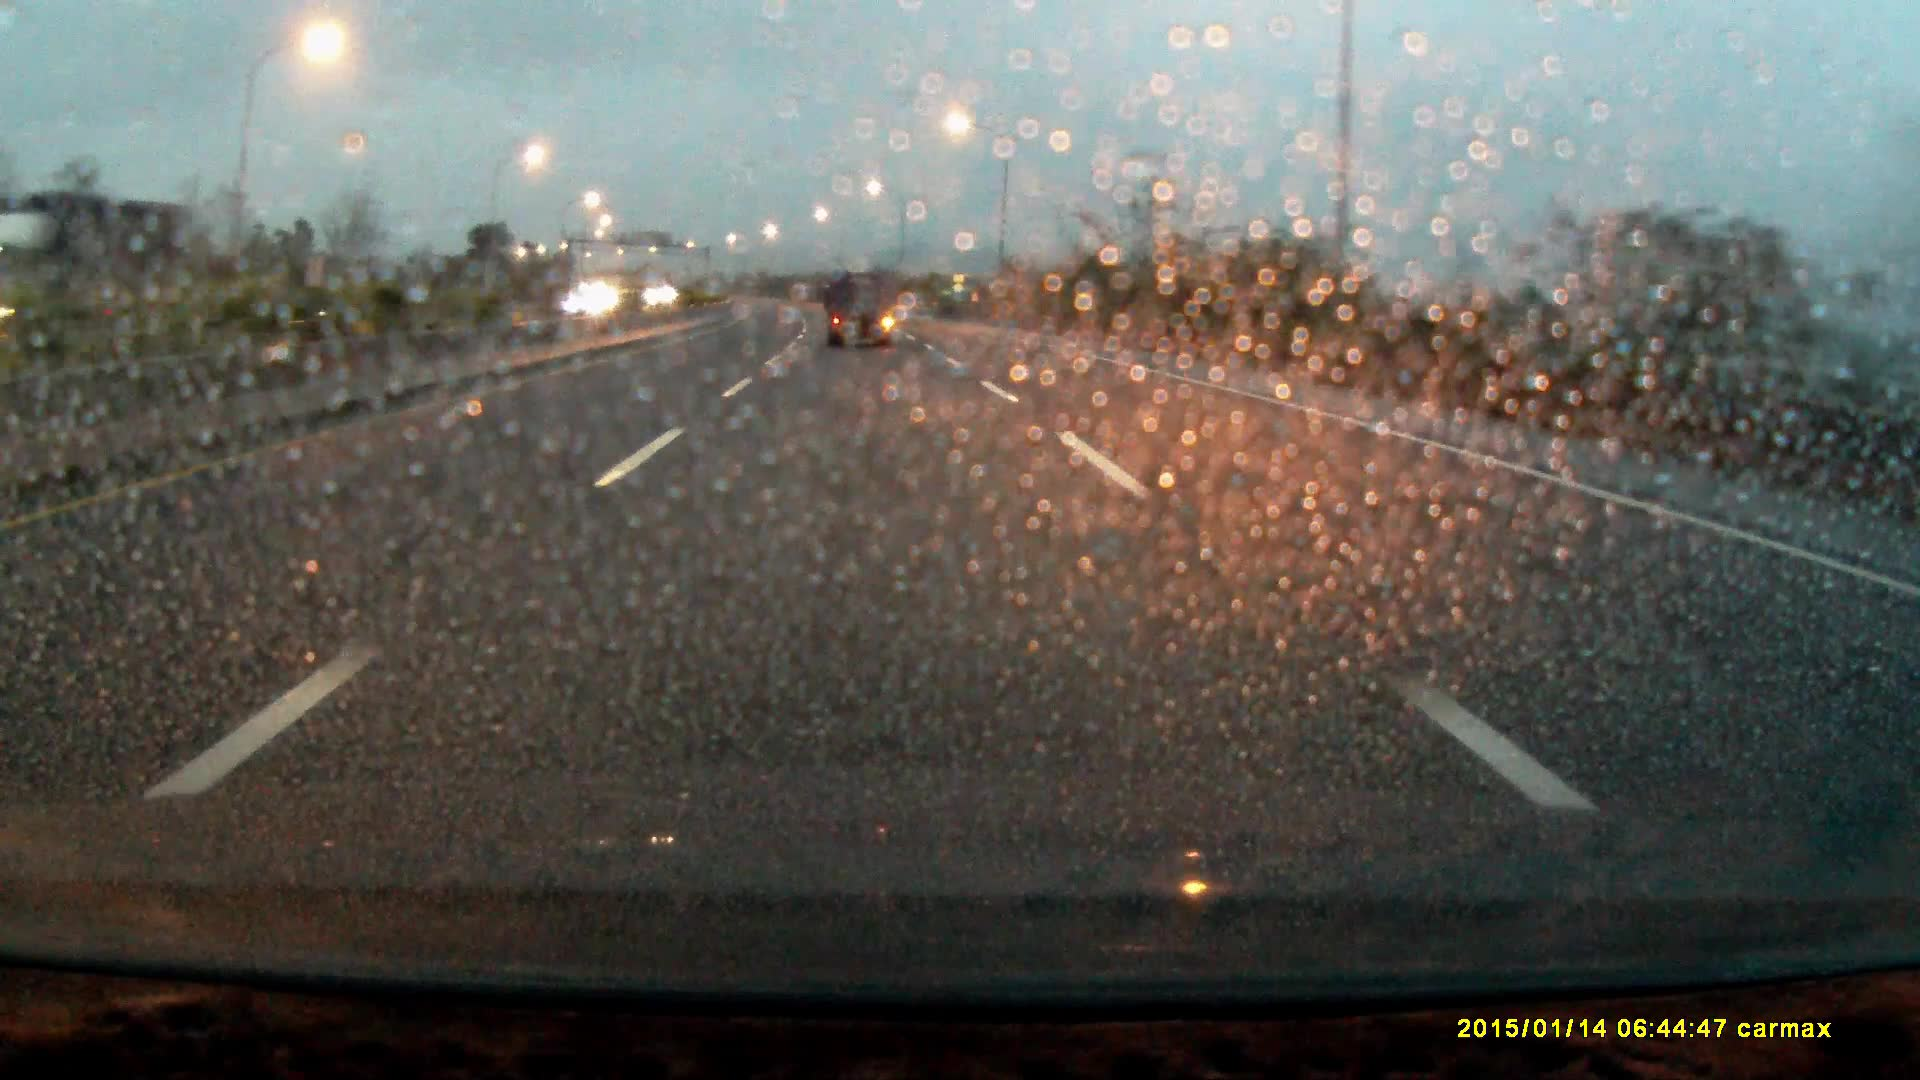vehicle: (1, 189, 195, 384), (825, 277, 898, 349), (574, 289, 622, 315)
